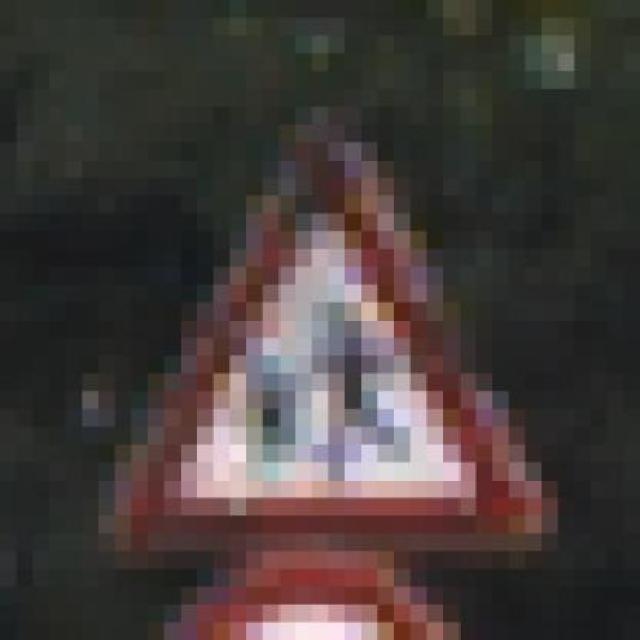Beware of children: (82, 106, 575, 569)
